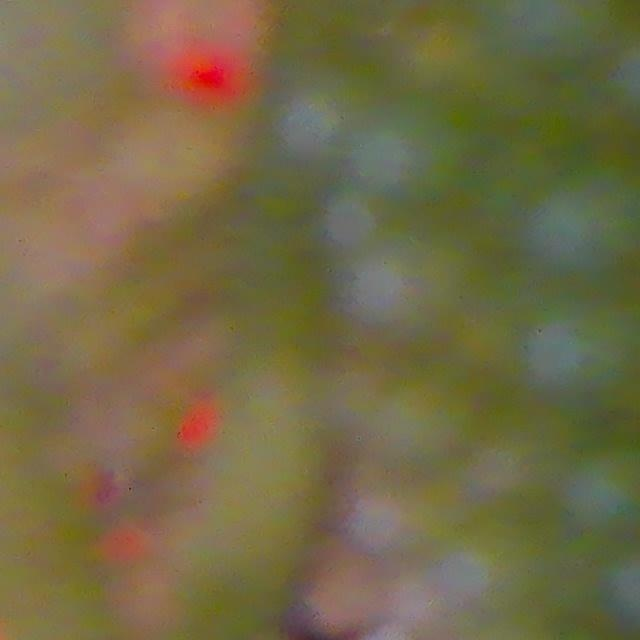SeaGrape: (345, 88, 473, 224), (513, 291, 640, 420), (533, 179, 640, 277), (561, 439, 640, 539), (319, 184, 383, 251)
